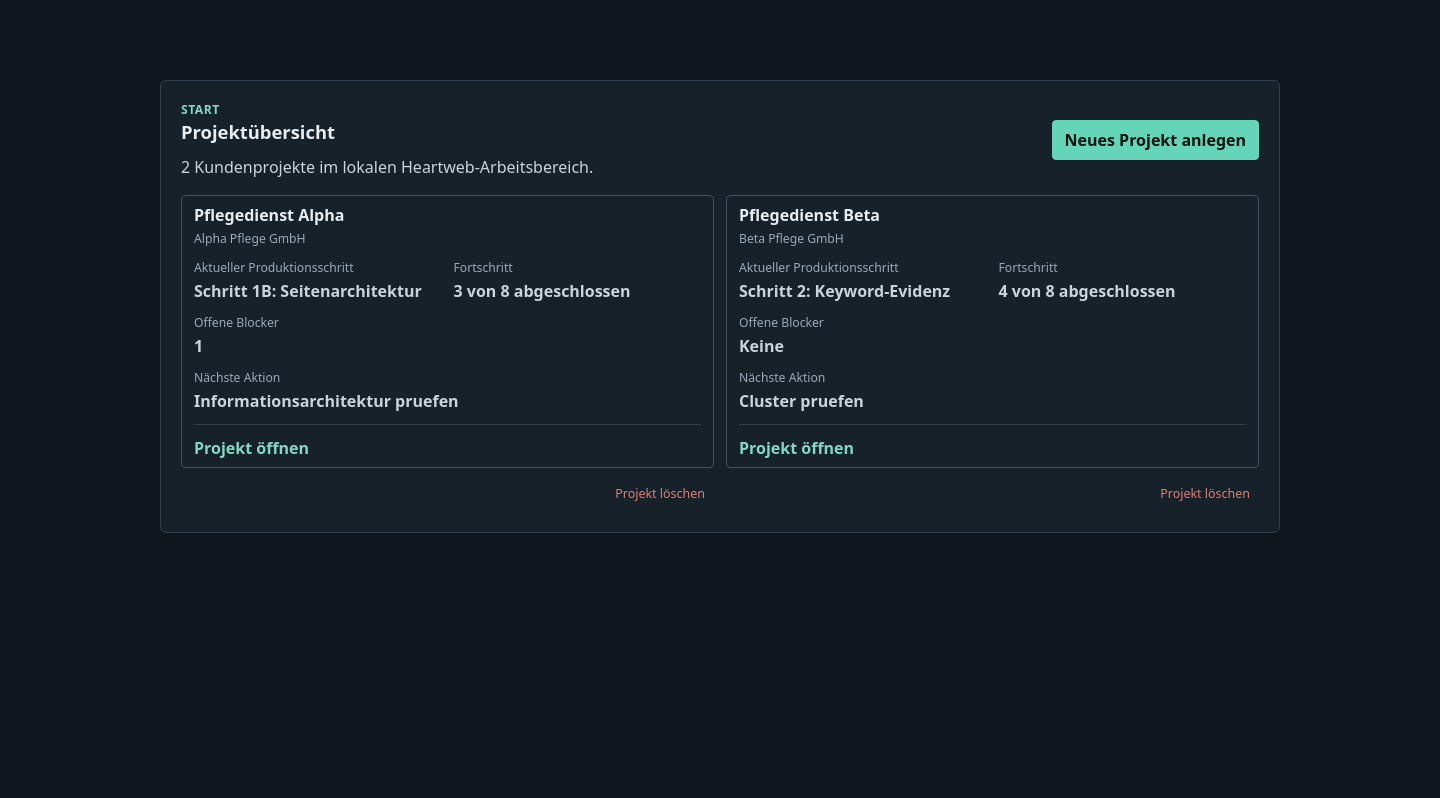
Test case: Operator Console diagnostic session › starts the canonical trace from browser search configuration only after ready
The image size is (1440, 798).
Click the button with aria-label "Pflegedienst Alpha öffnen". click: (269, 215)
box: [181, 195, 714, 468]
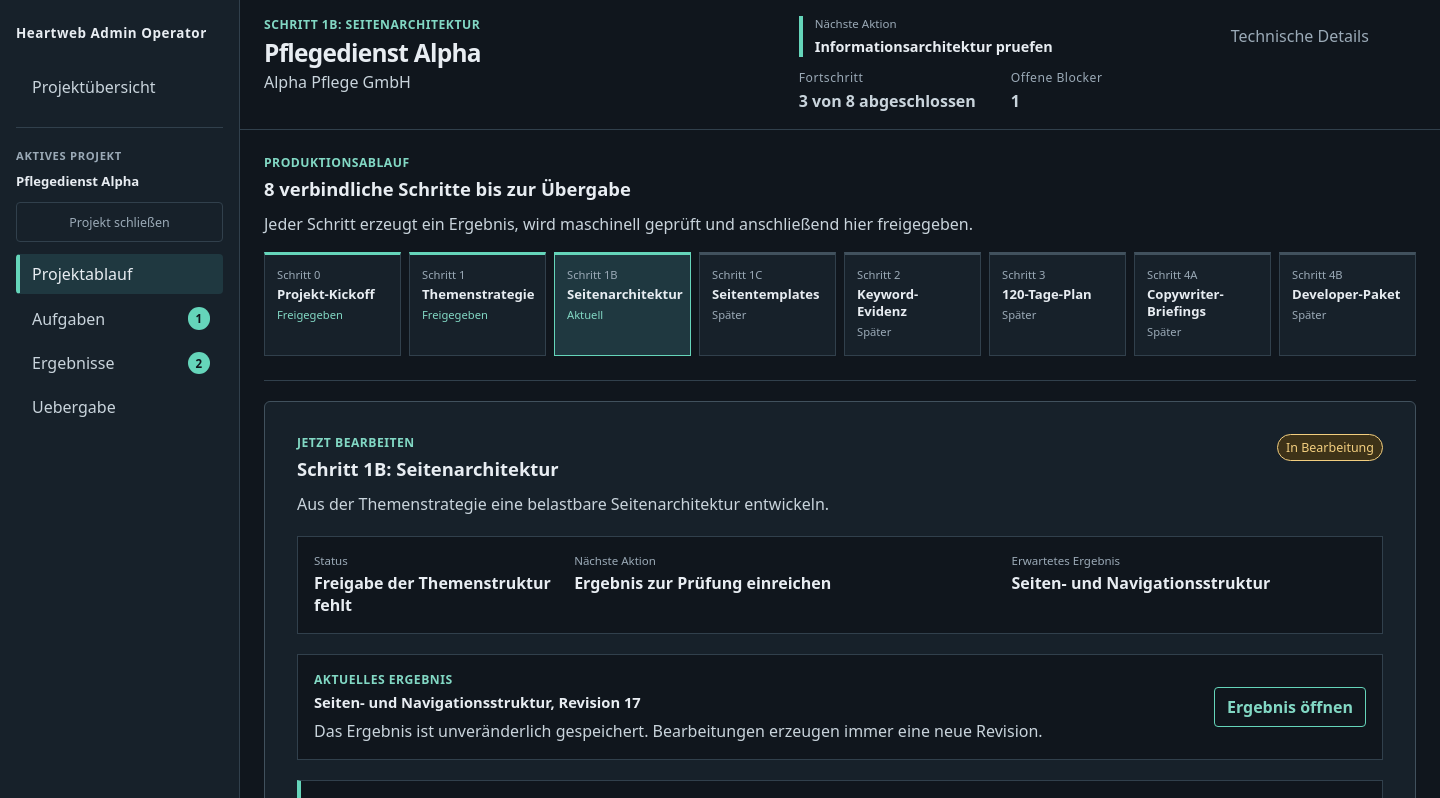
expect the heading "Pflegedienst Alpha" is shown: met, box [264, 36, 481, 69]
